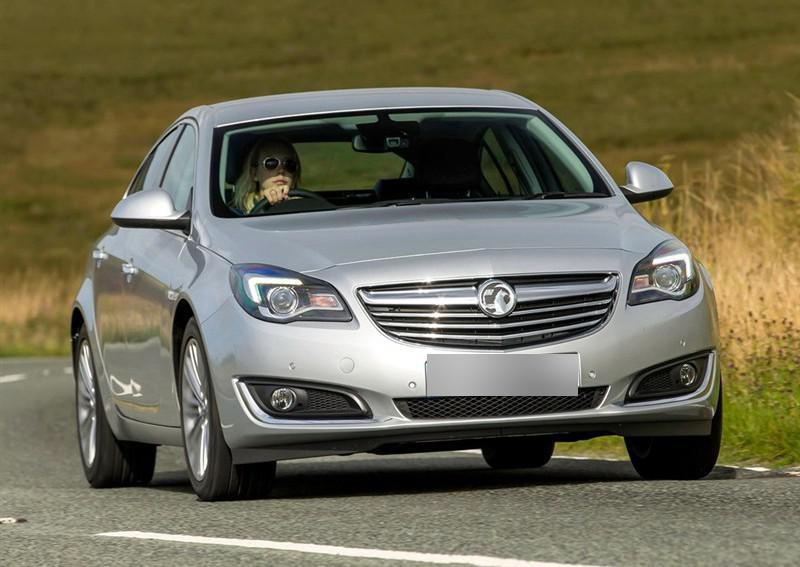Wagon: (67, 84, 724, 503)
